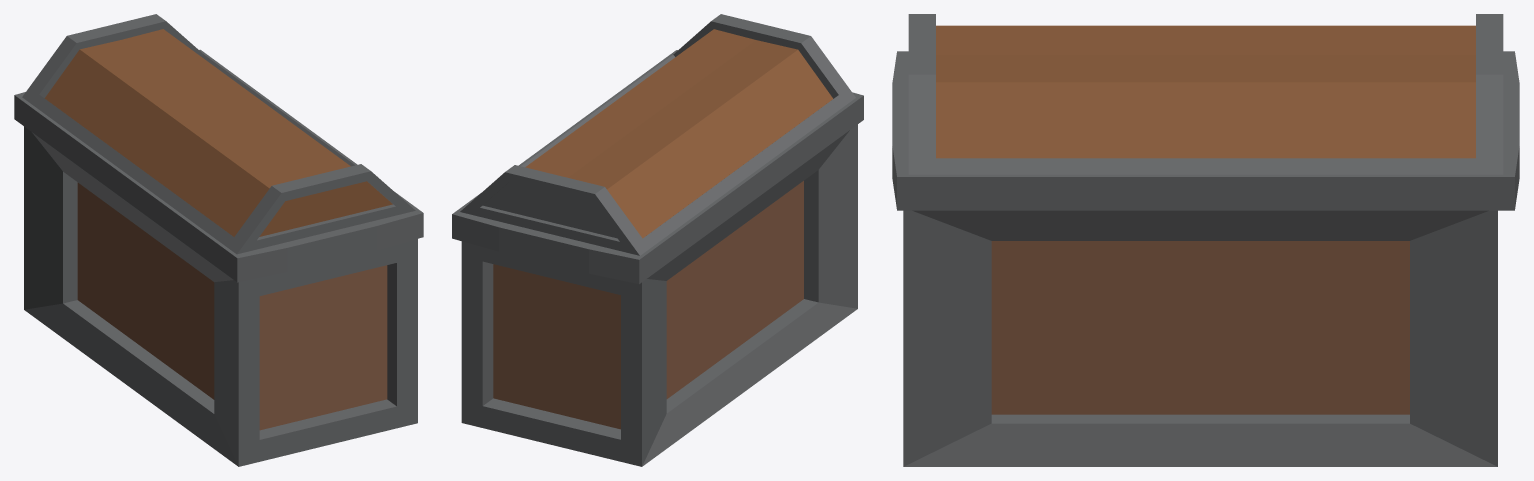
File: chest.fbx
3 renders of one model, left to right at view 1: azimuth 30°, elevation 25°; view 2: azimuth 150°, elevation 25°; view 3: azimuth 270°, elevation 25°, orthographic. The views are drawn at different scales.
Visible parts, largest first — view 1: Cube, Cube.001; view 2: Cube, Cube.001; view 3: Cube, Cube.001.
Boxes of the visible parts, left/top/right/bottom form: Cube: left=24, top=126, right=417, bottom=466; Cube.001: left=14, top=14, right=423, bottom=282; Cube: left=461, top=124, right=857, bottom=466; Cube.001: left=452, top=14, right=863, bottom=284; Cube: left=903, top=210, right=1497, bottom=466; Cube.001: left=892, top=14, right=1519, bottom=210.
Bounding box in the file's own units: 208 × 279 × 438.
